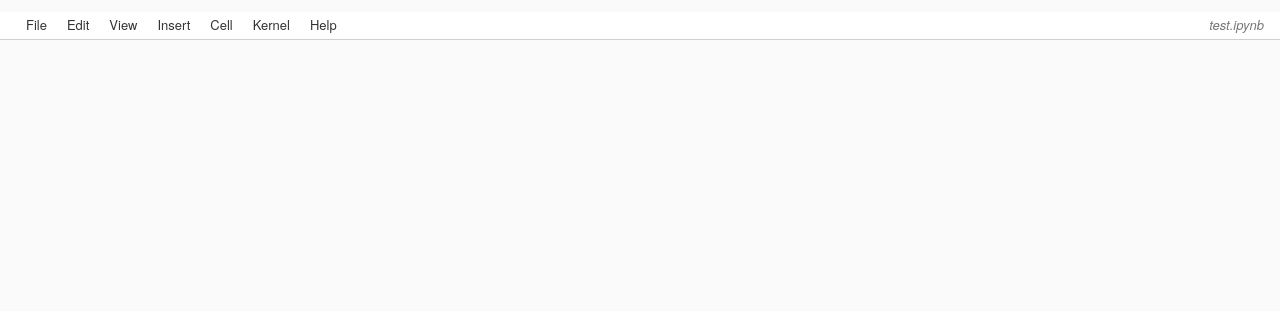
Scenario: MenuBar › opens File dropdown on click
Click the text "File": (36, 24) [26, 15, 47, 34]
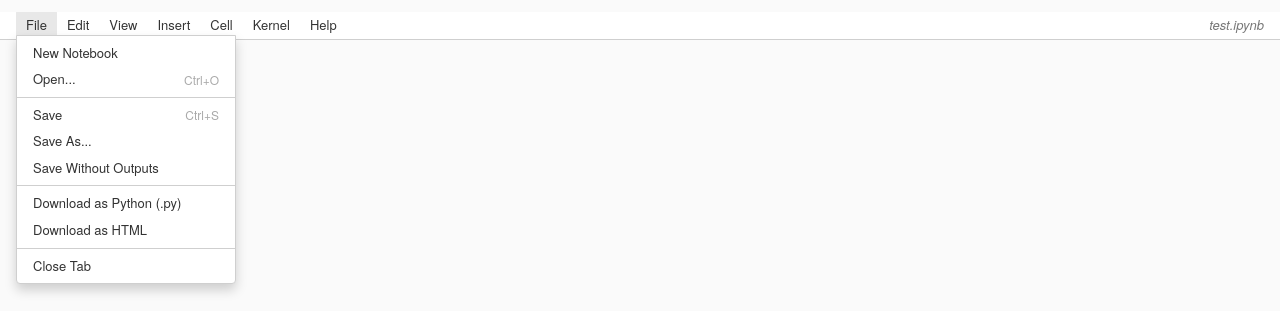
Result: the text "Open..." is shown at [33, 70, 76, 89]
Result: the text "Save" is shown at [33, 106, 62, 124]
Result: the text "Save As..." is shown at [33, 132, 92, 151]
